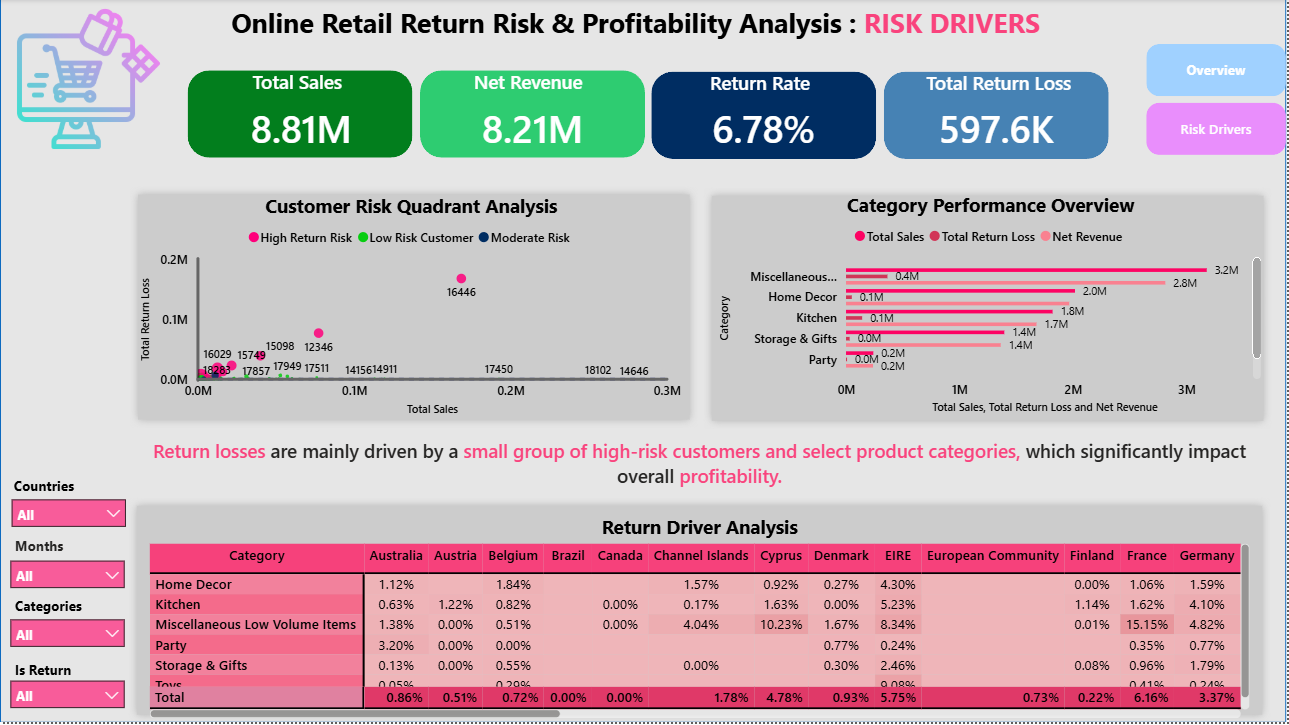

Layout of this report page (visuals, bound fields, positions):
{"tool":"powerbi","page":{"name":"Risk Drivers","canvas":[1280,720],"ordinal":1},"visuals":[{"type":"shape","box":[0,0,1280,720.3],"z":0},{"type":"shape","box":[186.6,70.5,223.9,87.1],"z":1000},{"type":"card","fields":{"Values":["online_retail.Total Sales"]},"box":[187.3,101.3,223.9,56],"z":2000},{"type":"textbox","box":[246.3,64.7,108.2,43.5],"z":3000},{"type":"shape","box":[648.5,72.1,223.9,87.1],"z":4000},{"type":"card","fields":{"Values":["online_retail.Return Rate %"]},"box":[648.1,101.3,223.9,56],"z":5000},{"type":"textbox","box":[701.6,65.9,115.7,38.6],"z":6000},{"type":"shape","box":[417.6,71.3,223.9,87.1],"z":7000},{"type":"card","fields":{"Values":["online_retail.Net Revenue"]},"box":[418,101.3,223.9,56],"z":8000},{"type":"textbox","box":[466.5,64.7,128.1,36.1],"z":9000},{"type":"shape","box":[879.5,72.1,223.9,87.1],"z":10000},{"type":"card","fields":{"Values":["online_retail.Total Return Loss"]},"box":[879.5,101.3,223.9,56],"z":11000},{"type":"textbox","box":[916.8,66.4,166.7,37.3],"z":12000},{"type":"shape","box":[128.9,187.1,565,240],"z":13000},{"type":"scatterChart","title":"Customer Risk Quadrant Analysis","fields":{"X":["online_retail.Total Sales"],"Y":["online_retail.Total Return Loss"],"Category":["online_retail.CustomerID"],"Size":["online_retail.Return Rate %"],"Series":["DateTable.Customer Risk Level"]},"box":[135.6,192.8,547.3,226.4],"z":14000},{"type":"shape","box":[700.3,187.3,565,240],"z":15000},{"type":"clusteredBarChart","title":"Category Performance Overview","fields":{"Category":["online_retail.Category"],"Y":["online_retail.Total Sales","online_retail.Total Return Loss","online_retail.Net Revenue"]},"box":[711.5,191.1,548.6,226.4],"z":16000},{"type":"shape","box":[128,496,1136,224],"z":17000},{"type":"pivotTable","title":"Return Driver Analysis","fields":{"Columns":["online_retail.Country"],"Values":["online_retail.Return Rate %"],"Rows":["online_retail.Category"]},"box":[144,512,1104,208],"z":18000},{"type":"textbox","box":[225,0,846.7,53.3],"z":19000},{"type":"image","box":[0,0,176.6,156.7],"z":20000},{"type":"pageNavigator","box":[1140.7,44.8,139.3,110.7],"z":21000},{"type":"textbox","box":[128,432,1136,64],"z":22000},{"type":"slicer","fields":{"Values":["online_retail.Country"]},"box":[1.2,487.6,134.3,43.5],"z":23000},{"type":"slicer","fields":{"Values":["DateTable.Month"]},"box":[0,548,134.3,42.3],"z":24000},{"type":"textbox","box":[10,529.9,65.9,29.9],"z":25000},{"type":"textbox","box":[8.7,470.2,77.1,33.6],"z":26000},{"type":"slicer","fields":{"Values":["online_retail.Category"]},"box":[0,607.1,134.3,43.5],"z":27000},{"type":"slicer","fields":{"Values":["online_retail.Is_Return"]},"box":[0,667.5,134,43],"z":28000},{"type":"textbox","box":[10,589.6,95.8,32.3],"z":29000},{"type":"textbox","box":[10,652.6,75.9,29.9],"z":30000}]}

Visuals, with their boxes in screenshot pixels (x1, y1, x2, y2), scaled from the page's 1280x720 canvas onto the 1289x725 screenshot:
shape: bbox=[0, 0, 1288, 724]
shape: bbox=[188, 71, 413, 159]
card - online_retail.Total Sales: bbox=[189, 102, 414, 158]
textbox: bbox=[248, 65, 357, 109]
shape: bbox=[653, 73, 879, 160]
card - online_retail.Return Rate %: bbox=[653, 102, 878, 158]
textbox: bbox=[707, 66, 823, 105]
shape: bbox=[421, 72, 646, 159]
card - online_retail.Net Revenue: bbox=[421, 102, 646, 158]
textbox: bbox=[470, 65, 599, 102]
shape: bbox=[886, 73, 1111, 160]
card - online_retail.Total Return Loss: bbox=[886, 102, 1111, 158]
textbox: bbox=[923, 67, 1091, 104]
shape: bbox=[130, 188, 699, 430]
"Customer Risk Quadrant Analysis" scatterChart: bbox=[137, 194, 688, 422]
shape: bbox=[705, 189, 1274, 430]
"Category Performance Overview" clusteredBarChart: bbox=[717, 192, 1269, 420]
shape: bbox=[129, 499, 1273, 724]
"Return Driver Analysis" pivotTable: bbox=[145, 516, 1257, 724]
textbox: bbox=[227, 0, 1079, 54]
image: bbox=[0, 0, 178, 158]
pageNavigator: bbox=[1149, 45, 1288, 157]
textbox: bbox=[129, 435, 1273, 499]
slicer - online_retail.Country: bbox=[1, 491, 136, 535]
slicer - DateTable.Month: bbox=[0, 552, 135, 594]
textbox: bbox=[10, 534, 76, 564]
textbox: bbox=[9, 473, 86, 507]
slicer - online_retail.Category: bbox=[0, 611, 135, 655]
slicer - online_retail.Is_Return: bbox=[0, 672, 135, 715]
textbox: bbox=[10, 594, 107, 626]
textbox: bbox=[10, 657, 87, 687]
